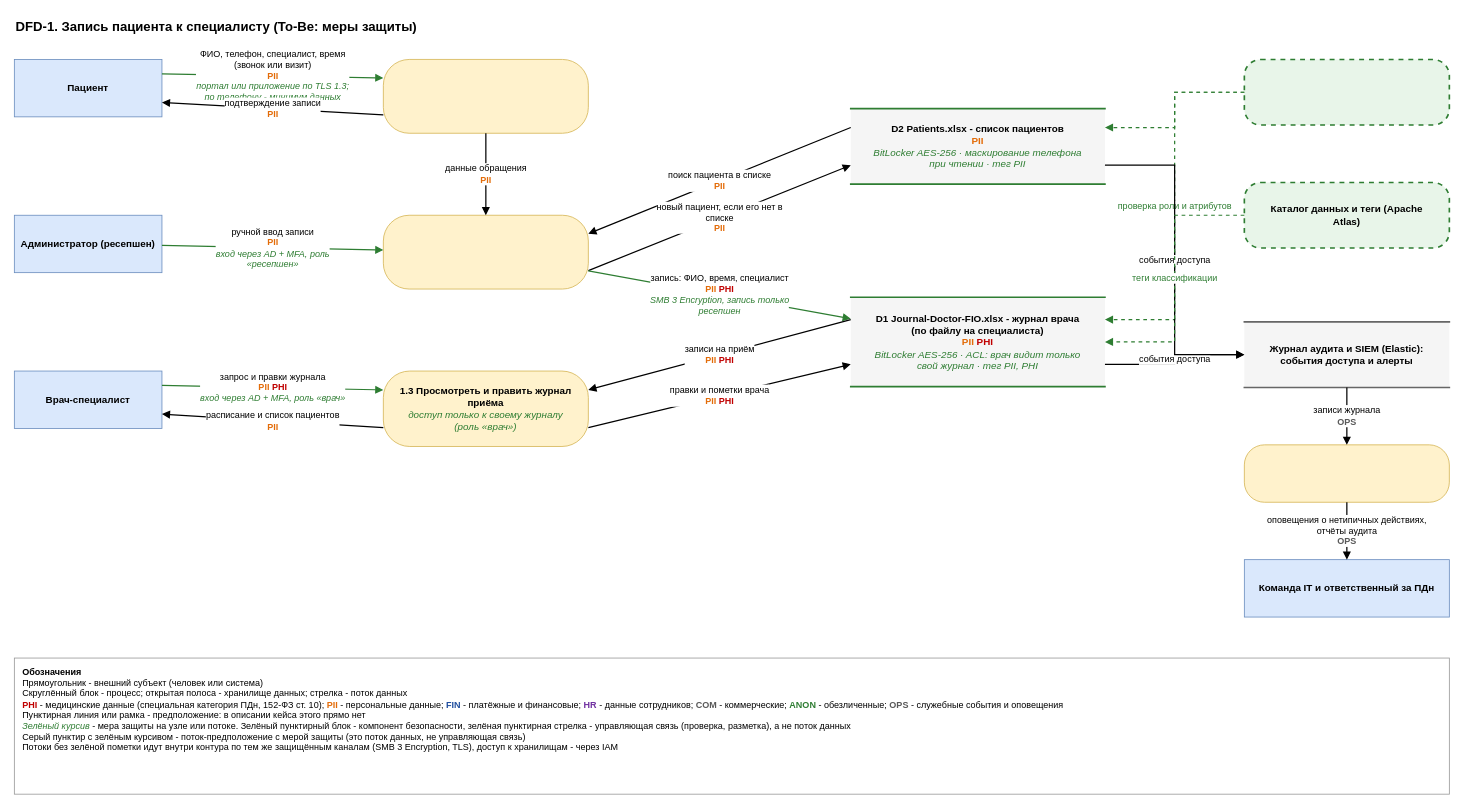
This 1465x809 diagram has some shape labels left out. Each missing label, with the centre of its shape:
1.1 Принять обращение пациента о записи: [485,96]
1.2 Занести запись в журнал специалиста: [485,251]
1.4 Проанализировать события и оповестить (правила SIEM): [1346,473]
IAM (Keycloak + AD): MFA, RBAC и ABAC: [1346,91]
